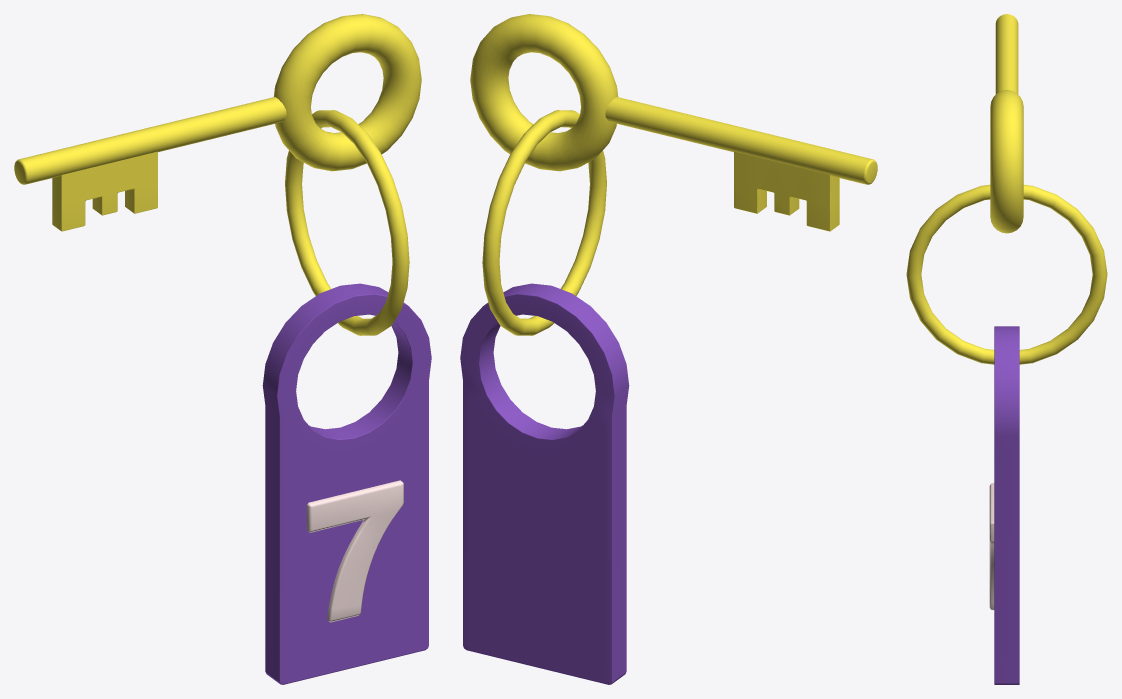
File: Public_7_Key_Number_7.glb
The picture shows the model from 3 angles, left to right: view 1: azimuth 30°, elevation 25°; view 2: azimuth 150°, elevation 25°; view 3: azimuth 270°, elevation 25°; orthographic projection. The views are drawn at different scales.
Visible parts, largest first — view 1: Public_7_Key_Number_7; view 2: Public_7_Key_Number_7; view 3: Public_7_Key_Number_7.
Boxes of the visible parts, x1,y1,x2,y2 form: Public_7_Key_Number_7: [14, 14, 431, 684]; Public_7_Key_Number_7: [460, 14, 877, 684]; Public_7_Key_Number_7: [906, 14, 1107, 684].
Bounding box in the file's own units: 1.61 × 2.45 × 0.8011.
Materials: 1 (1 with a texture image).
